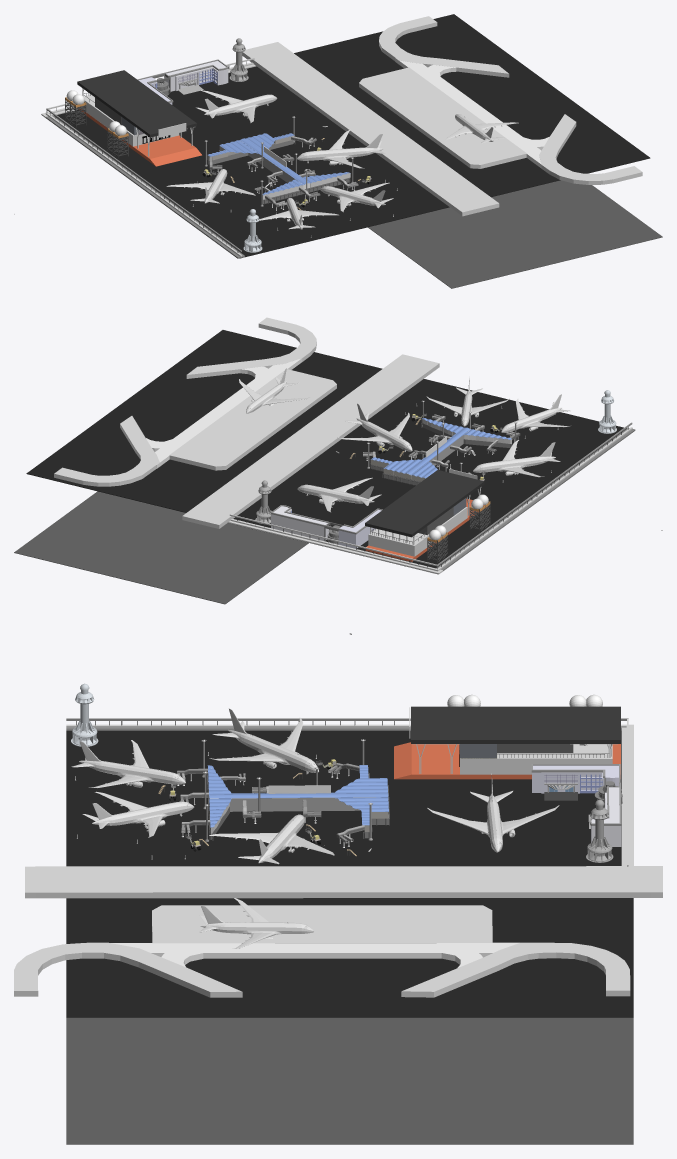
File: aeroport.glb
3 views of the same model, one above another, from view 1: azimuth 30°, elevation 25°; view 2: azimuth 150°, elevation 25°; view 3: azimuth 270°, elevation 25° (orthographic). The views are drawn at different scales.
Bounding box in the file's own units: 163 × 34.38 × 115.
